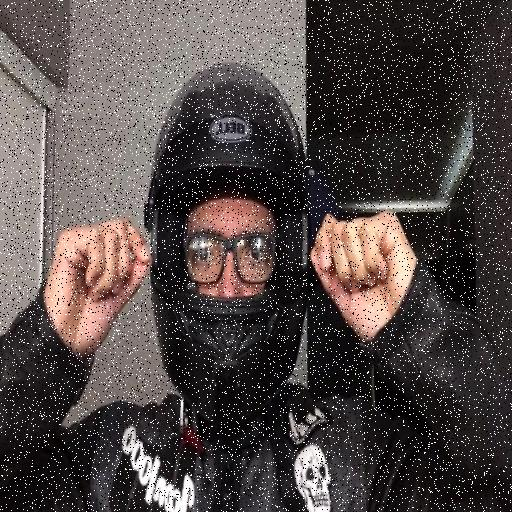Helmet: (150, 68, 321, 440)
